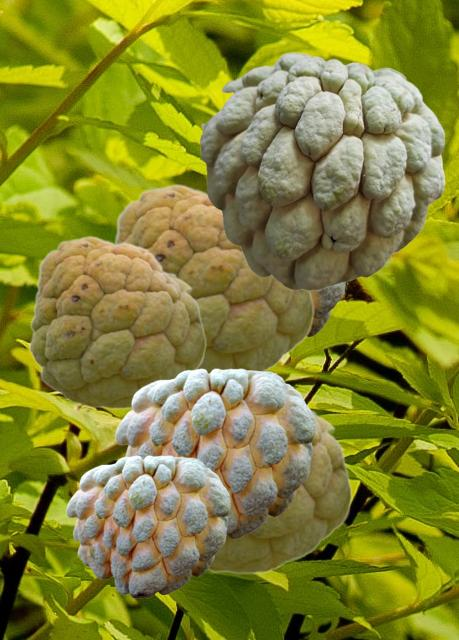atis: (199, 52, 444, 289), (114, 183, 313, 371), (115, 368, 314, 539), (28, 235, 205, 408), (207, 382, 351, 573), (66, 455, 229, 597), (308, 283, 346, 337)
